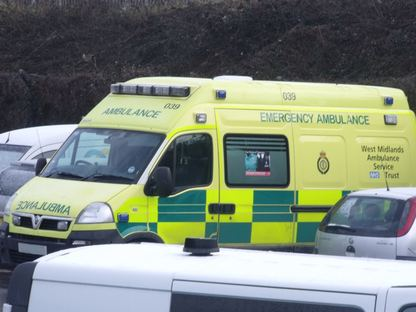ambulance: (1, 76, 416, 270)
